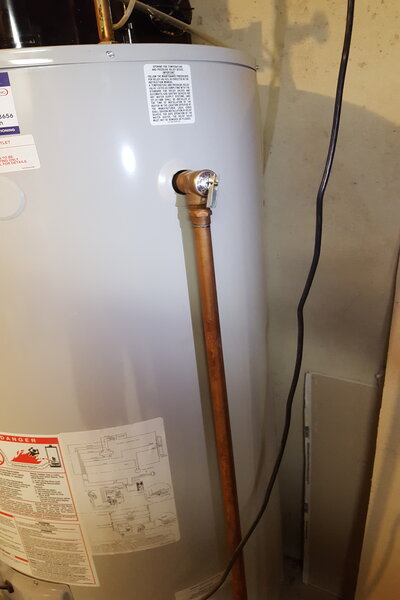valve: (172, 168, 221, 231)
